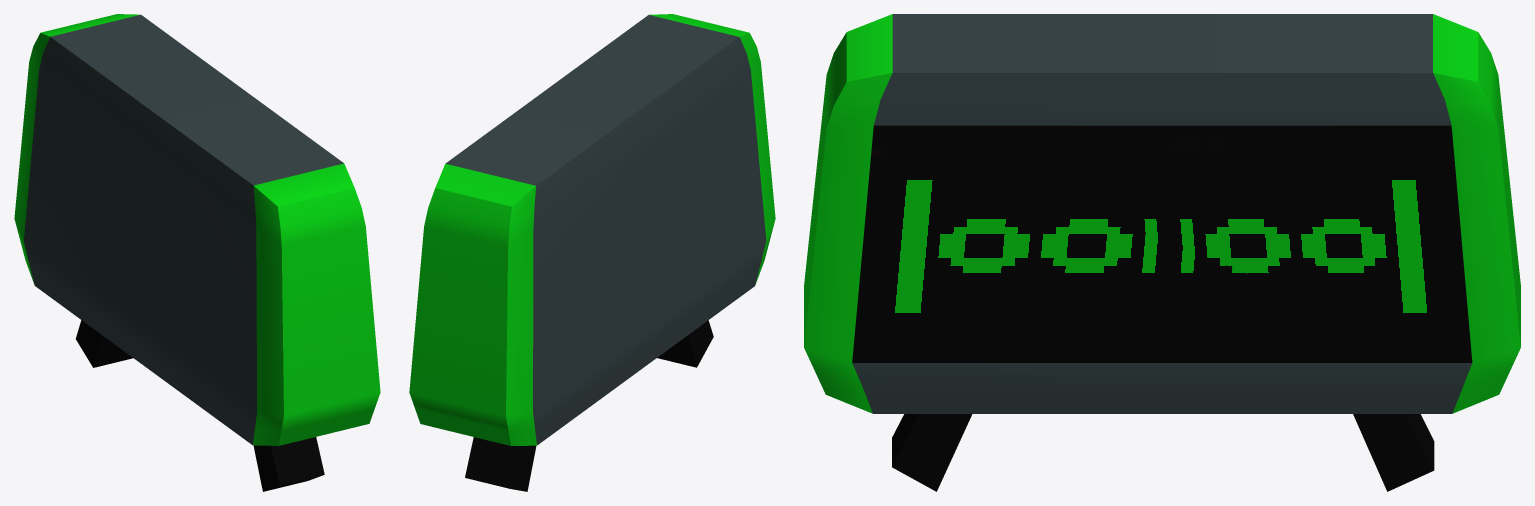
Rendered from LowPolyDataPacket.fbx.
3 views of the same model, side by side, from view 1: azimuth 30°, elevation 25°; view 2: azimuth 150°, elevation 25°; view 3: azimuth 270°, elevation 25° (orthographic). The views are drawn at different scales.
Parts seen in each view (by area): view 1: pCube2; view 2: pCube2; view 3: pCube2.
Boxes of the visible parts, x1=… form: pCube2: x1=14, y1=14, x2=380, y2=491; pCube2: x1=409, y1=14, x2=775, y2=491; pCube2: x1=804, y1=14, x2=1520, y2=491.
Size of the model in its own units: 0.7378 by 2.01 by 3.02.
